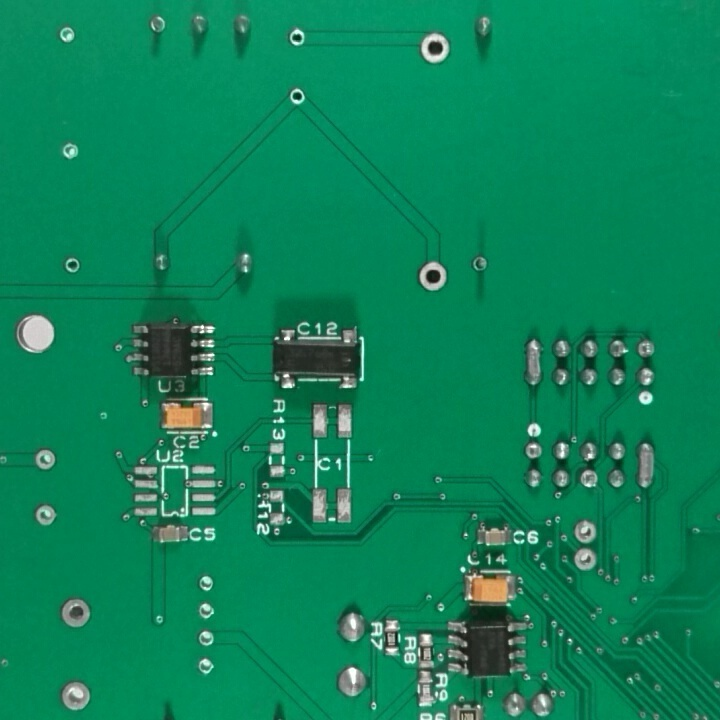F: (413, 255, 450, 296), (416, 26, 450, 70), (57, 594, 94, 633), (59, 678, 95, 714), (570, 515, 600, 548), (28, 444, 59, 475), (571, 545, 600, 576), (31, 500, 58, 532), (467, 251, 490, 275), (195, 627, 219, 650), (194, 657, 218, 680), (286, 28, 312, 49), (194, 600, 217, 623), (145, 12, 169, 34), (579, 469, 601, 493), (287, 86, 306, 111), (523, 442, 545, 463), (60, 137, 80, 160), (62, 252, 79, 276), (196, 573, 217, 592), (638, 340, 657, 361), (57, 25, 76, 44)
P: (633, 437, 661, 491), (521, 335, 545, 389)
